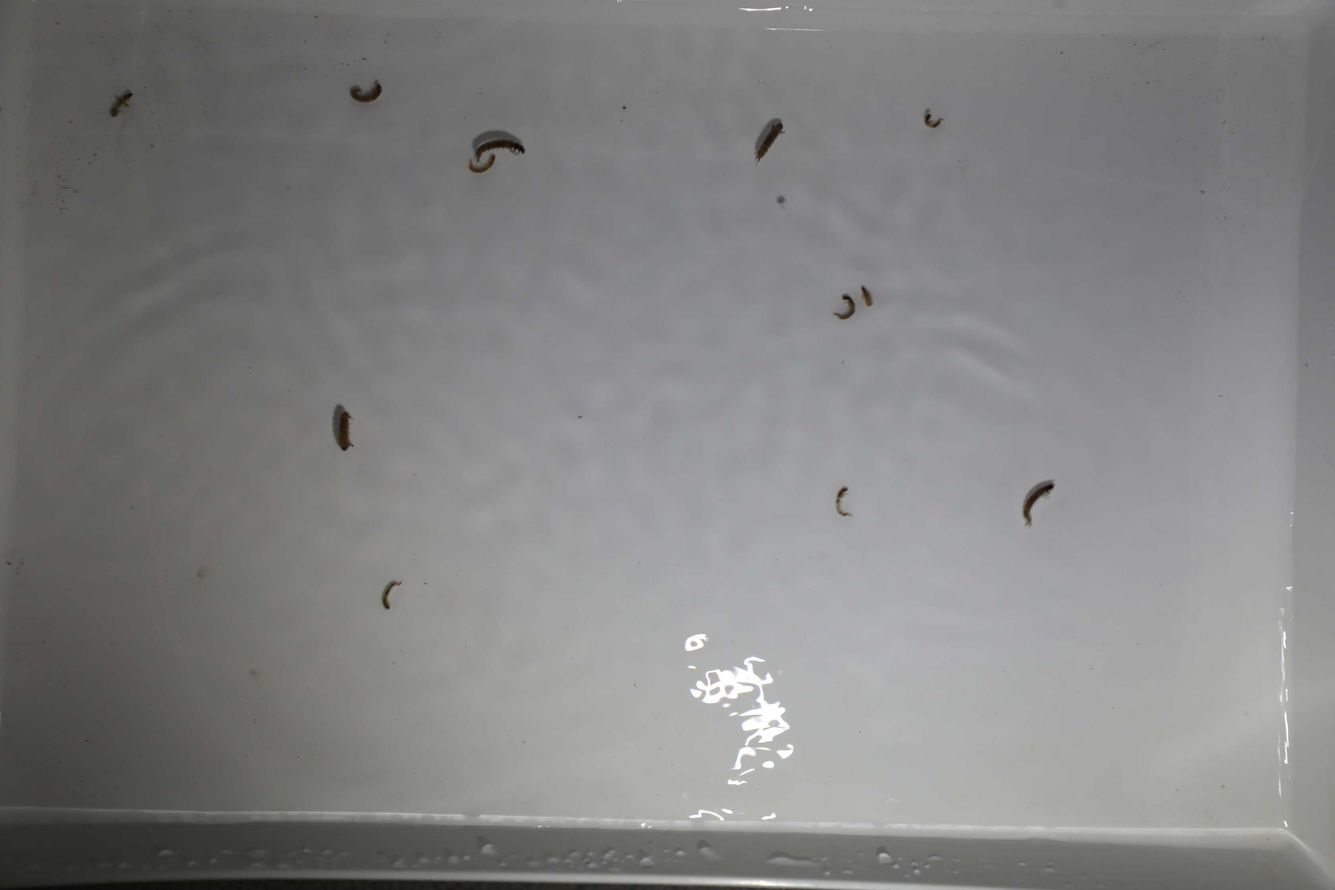Cadisfly: (750, 112, 788, 167), (1019, 474, 1058, 527), (99, 81, 135, 125), (327, 403, 357, 452), (345, 73, 386, 106), (471, 134, 527, 157), (376, 575, 408, 613), (829, 487, 857, 520), (831, 292, 860, 322), (920, 101, 944, 134), (859, 279, 882, 307), (461, 160, 502, 173)
